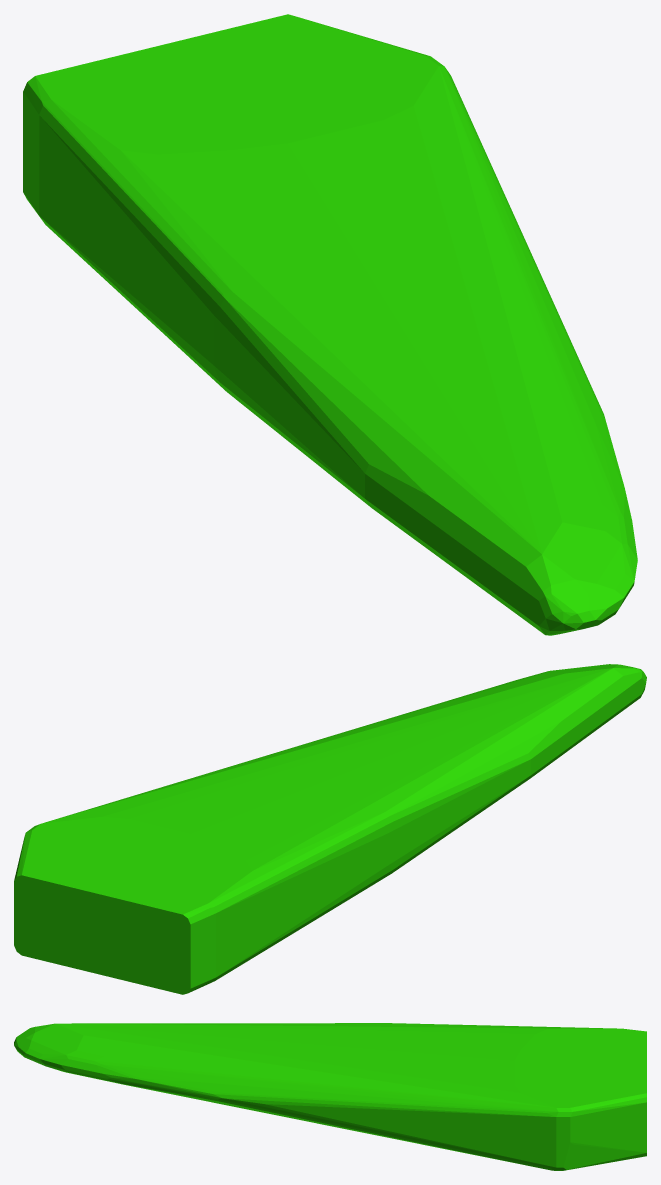
Rendered from model5_convex_piece_000.obj.
3 views of the same model, one above another, from view 1: azimuth 30°, elevation 25°; view 2: azimuth 150°, elevation 25°; view 3: azimuth 270°, elevation 25° (orthographic). The views are drawn at different scales.
Size of the model in its own units: 0.025 by 0.00695 by 0.0633.
